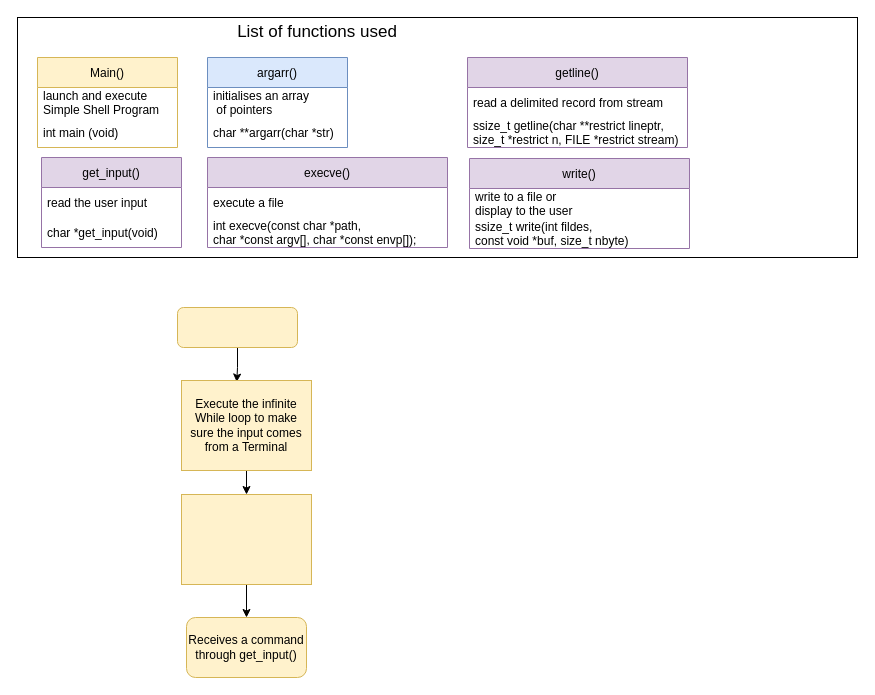
The diagram is 875 pixels wide and 695 high, and some of its shapes have lost their labels. Here are the shapes that lost their labels. From the top down, the centre of each, then its label:
At pixel 237 327: "Start the program".
At pixel 246 539: "Prompt to the user $ sign to suggest input via the write function".
